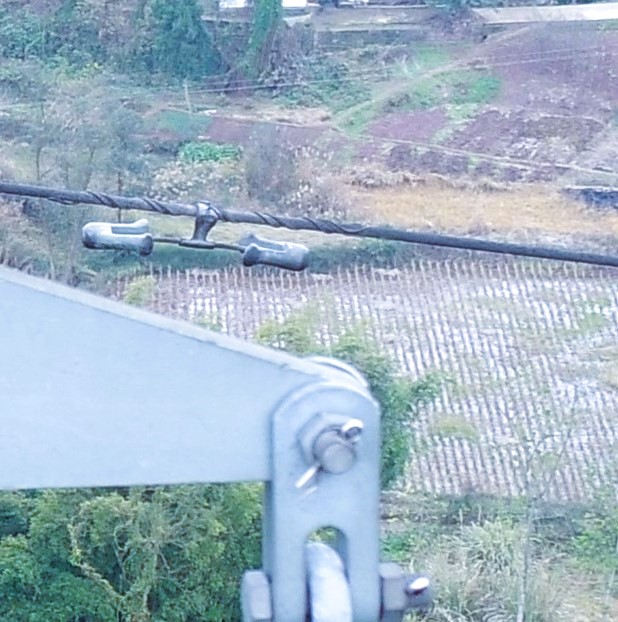Shockproof hammer: (73, 187, 315, 287)
